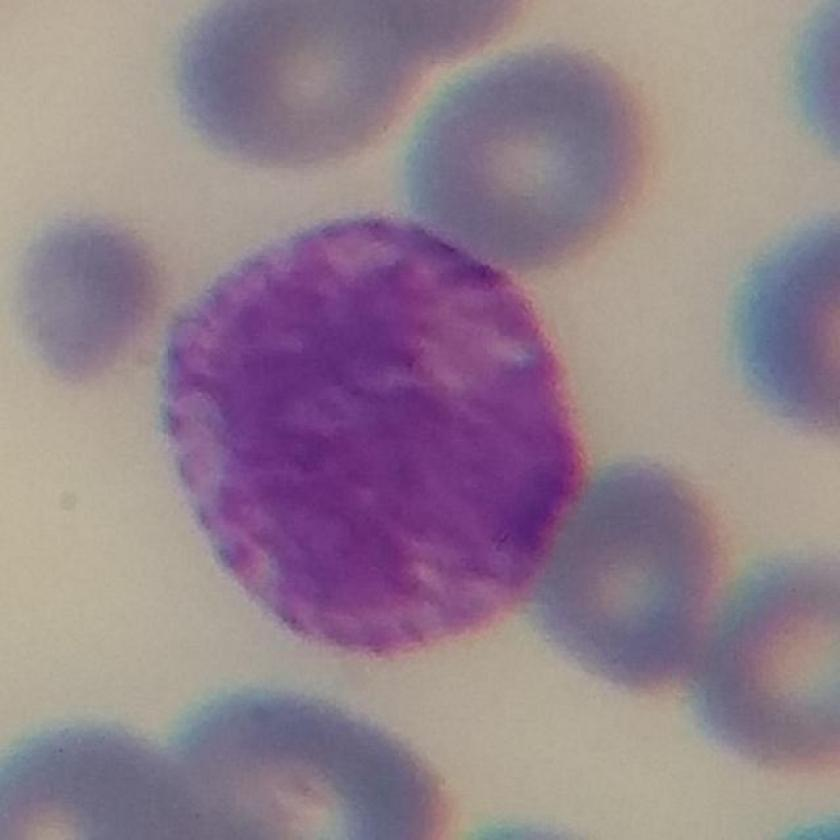basophil: (148, 207, 596, 657)
